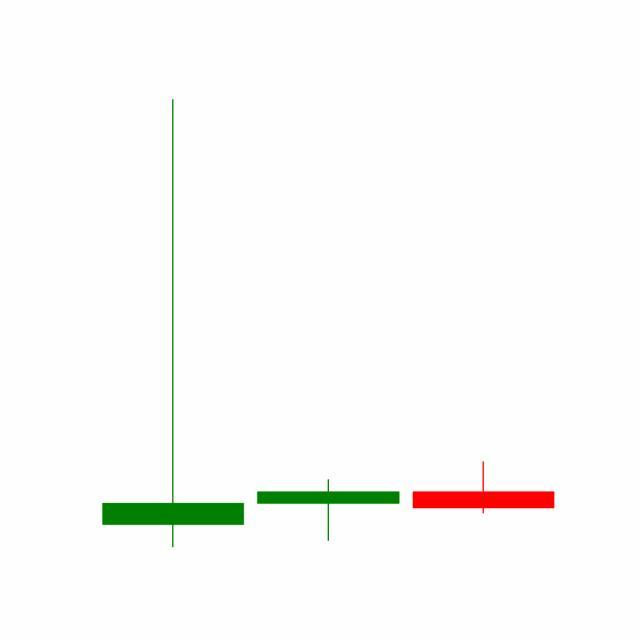Spinning Top: (250, 479, 407, 543)
